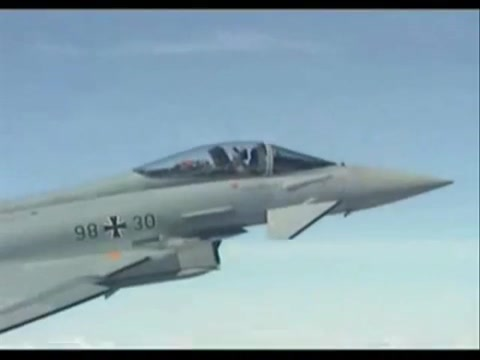aeroplane: (2, 139, 457, 335)
